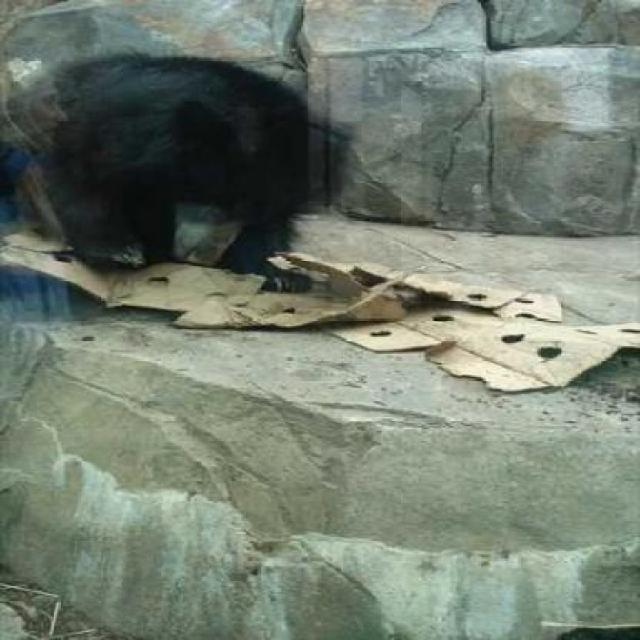Bear: (0, 15, 423, 266)
